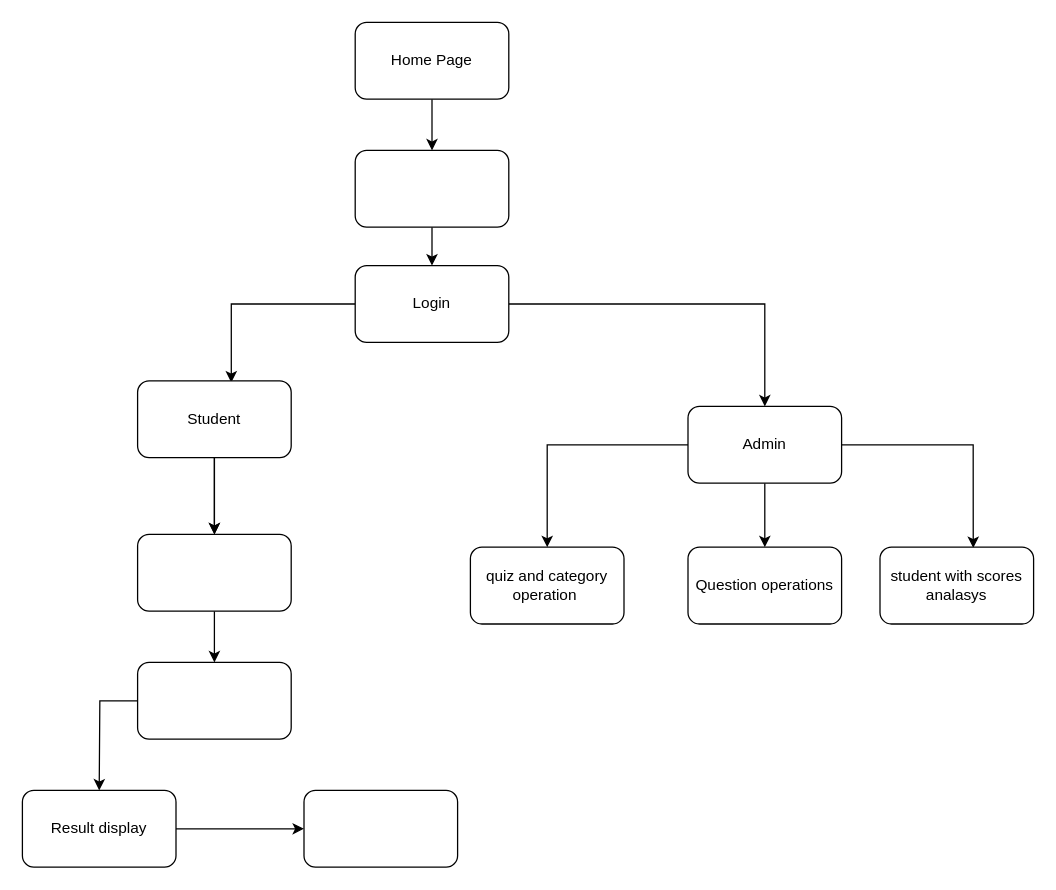
Some shapes in this 1056 by 890 pixel diagram are drawn without their labels. The shapes that lost their labels are listed below. From the top down, each one's centre as x and y in pixels, then its label:
the point at 431,188: Resgister
the point at 213,572: show quizes by category
the point at 213,700: take quiz
the point at 380,828: attempted quizes
